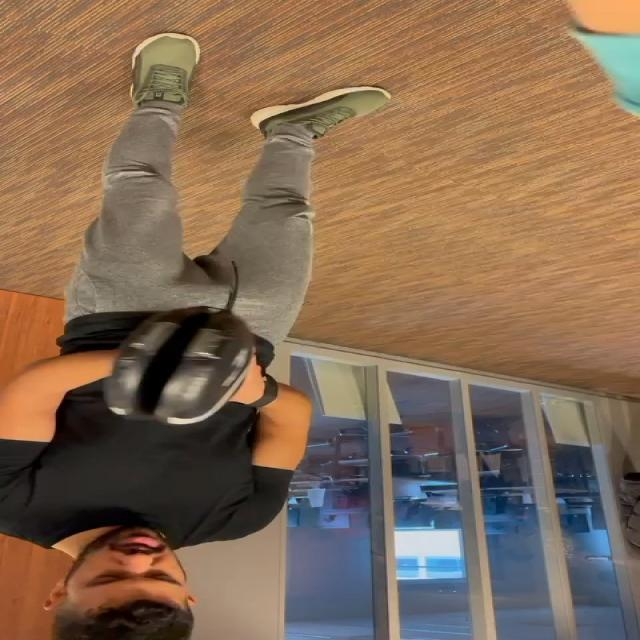paddle: (112, 314, 242, 426)
